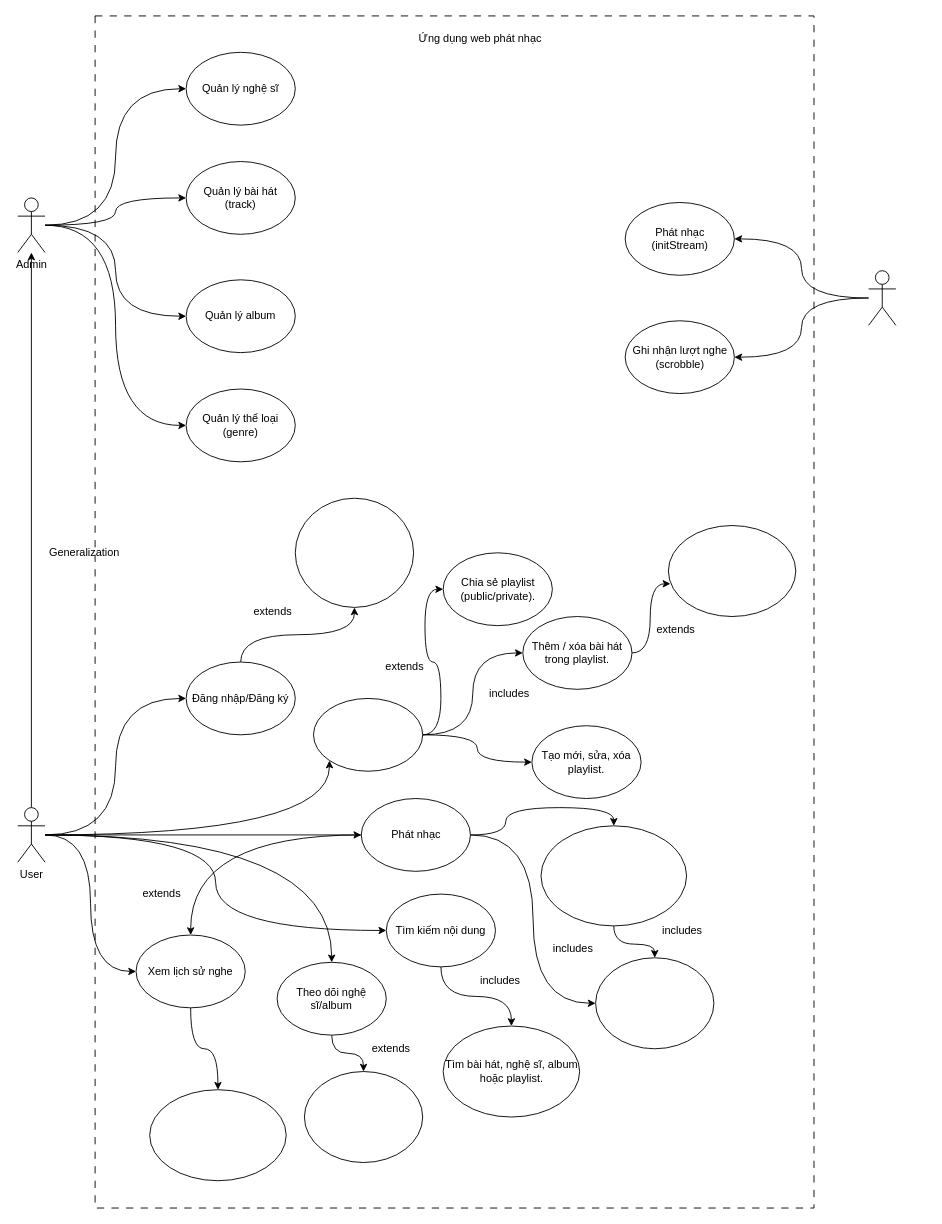
Image size: 942x1224. Some labels were removed from this diagram. Here are the shapes that lost their labels. From the top down, the box of each, then its label:
(868, 270, 896, 325): Audio CDN/Player
(294, 497, 414, 607): Login bằng email, OTP hoặc Social (Google/Facebook)
(667, 525, 796, 617): Lưu bài hát vào danh sách yêu thích (like/favorite).
(313, 698, 423, 771): Quản lý playist
(540, 825, 687, 926): Chức năng: Play / Pause / Next / Previous / Seek / Shuffle / Repeat.
(595, 957, 714, 1049): Hiển thị ảnh bìa, metadata, lời bài hát, gợi ý liên quan.
(149, 1089, 286, 1181): Ghi lại bài hát đã nghe, hiển thị thống kê top 10 gần đây.
(303, 1071, 423, 1163): Theo dõi và nhận cập nhật nội dung mới.
